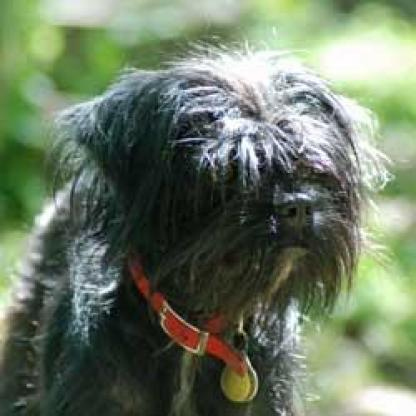affenpinscher: (2, 58, 358, 411)
